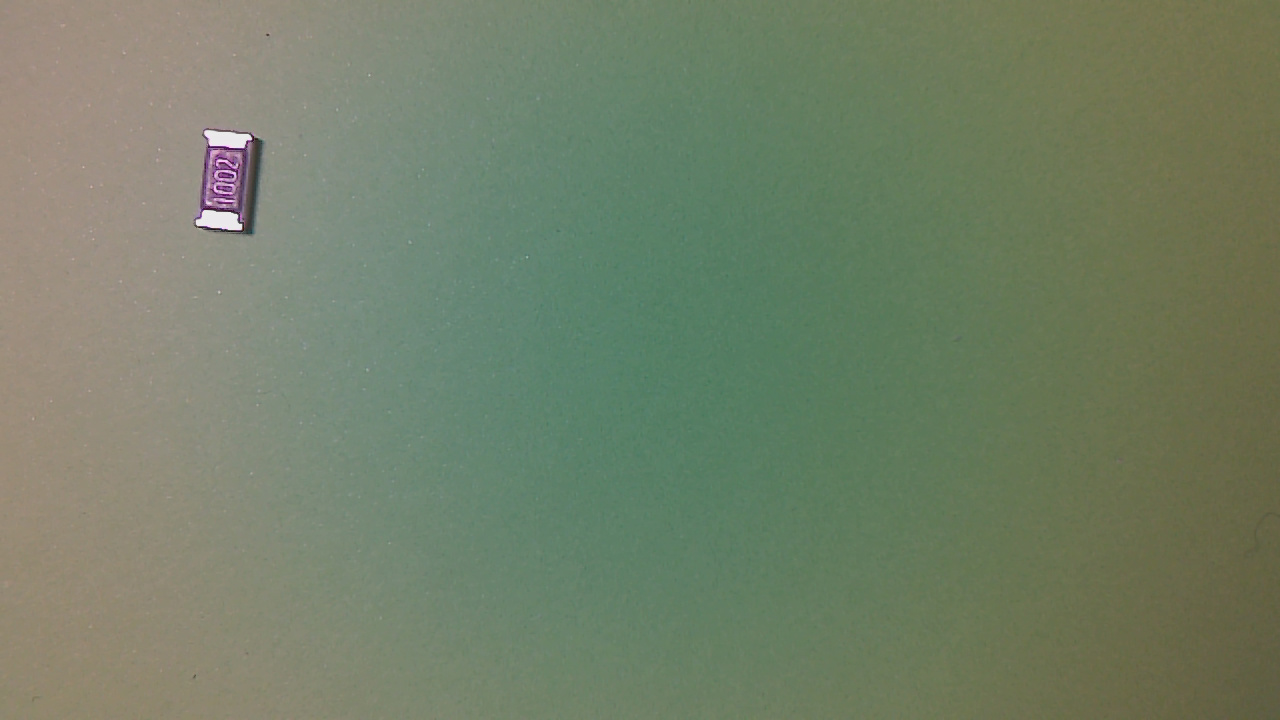Resistor: (190, 125, 276, 247)
